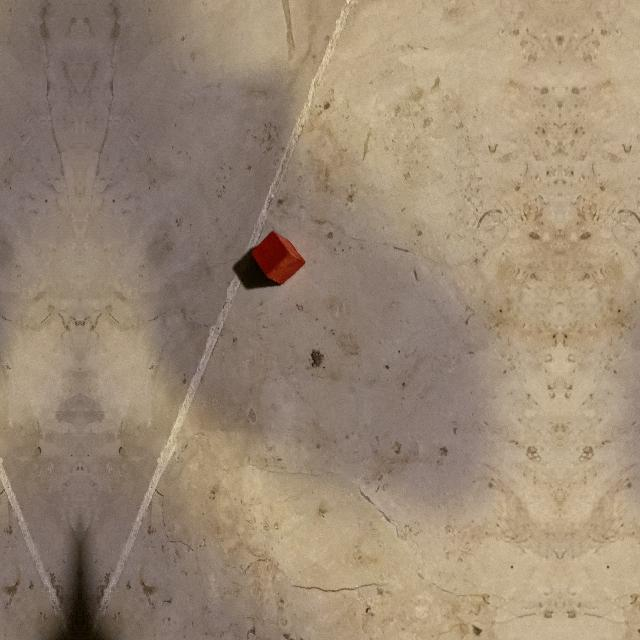red cube: (251, 231, 306, 285)
